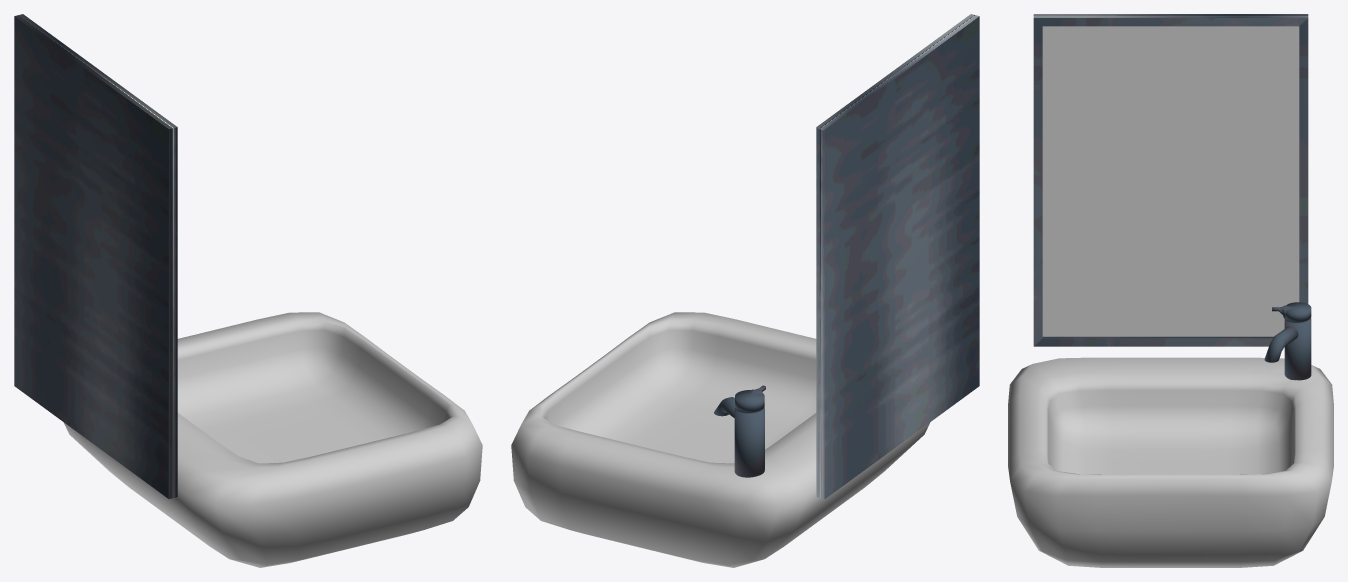
Rendered from lavamanos.fbx.
3 renders of one model, left to right at view 1: azimuth 30°, elevation 25°; view 2: azimuth 150°, elevation 25°; view 3: azimuth 270°, elevation 25°, orthographic. The views are drawn at different scales.
Visible parts, largest first — view 1: Lavamanos, Marco; view 2: Marco, Lavamanos, Lanzaagua; view 3: Espejo, Lavamanos, Marco, Lanzaagua.
Boxes of the visible parts, bbox=[...] form: Lavamanos: bbox=[63, 312, 482, 567]; Marco: bbox=[14, 14, 177, 498]; Marco: bbox=[816, 14, 979, 498]; Lavamanos: bbox=[511, 312, 930, 567]; Lanzaagua: bbox=[714, 385, 765, 477]; Espejo: bbox=[1042, 26, 1299, 336]; Lavamanos: bbox=[1008, 357, 1333, 567]; Marco: bbox=[1033, 14, 1308, 346]; Lanzaagua: bbox=[1264, 302, 1311, 380].
Bounding box in the file's own units: 237 × 346 × 237.
